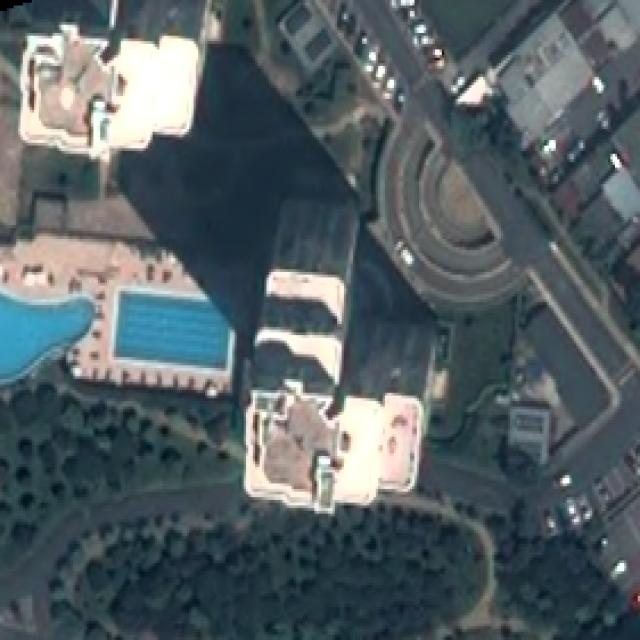Batiment: (244, 241, 424, 512), (20, 24, 201, 158), (499, 12, 592, 139), (581, 0, 640, 51)
